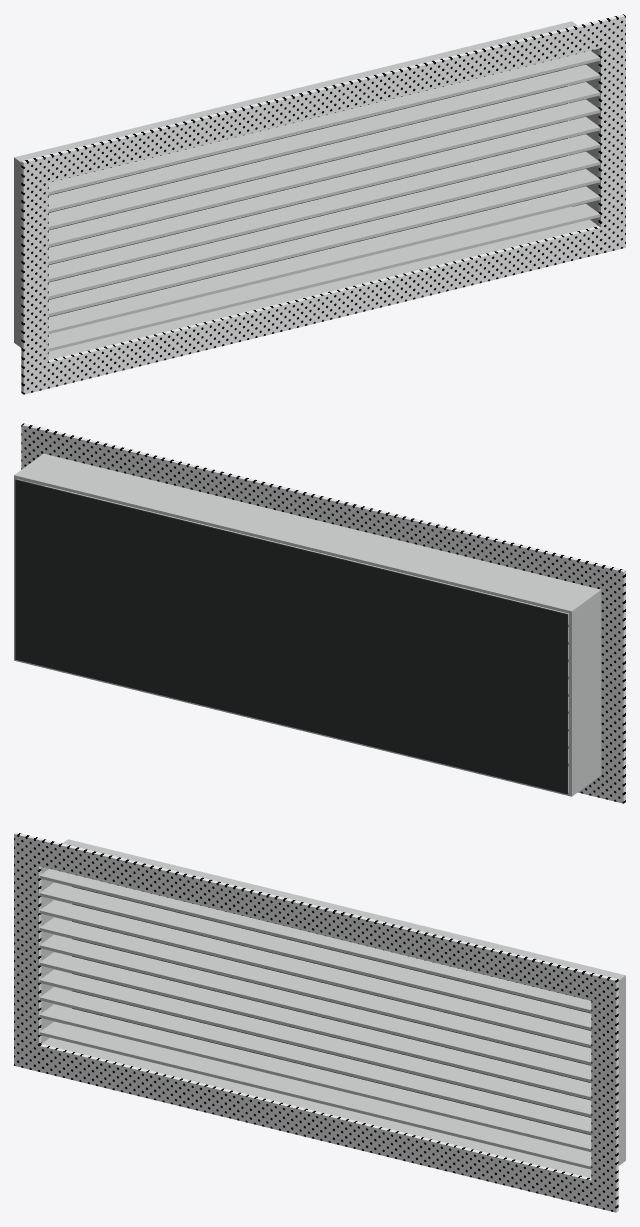
Rendered from ecoclima-ebls-400x125.glb.
The picture shows the model from 3 angles, top to bottom: view 1: azimuth 30°, elevation 25°; view 2: azimuth 150°, elevation 25°; view 3: azimuth 330°, elevation 25°; orthographic projection.
Visible parts, largest first — view 1: Profile_cornice, Profile_cornice.001, Profile_barra, Profile_barra.002, Profile_barra.003, Profile_barra.004, Profile_barra.008, Profile_barra.005, Profile_barra.006, Profile_barra.007, Profile_barra.001, Profile_barra.009 (+7 smaller); view 2: Interno, Profile_ritorno, Profile_cornice, Profile_ritorno.002, Profile_cornice.002, Profile_ritorno.001, Profile_cornice.001, Profile_barra.008; view 3: Profile_cornice, Profile_cornice.001, Profile_barra, Profile_barra.002, Profile_barra.003, Profile_barra.004, Profile_barra.008, Profile_barra.005, Profile_barra.006, Profile_barra.007, Profile_barra.001, Profile_barra.009 (+7 smaller).
Part boxes in pixels (bbox=[...]): Profile_cornice: bbox=[21, 14, 625, 188]; Profile_cornice.001: bbox=[21, 222, 625, 394]; Profile_barra: bbox=[48, 203, 600, 351]; Profile_barra.002: bbox=[48, 169, 600, 316]; Profile_barra.003: bbox=[48, 151, 600, 299]; Profile_barra.004: bbox=[48, 134, 600, 281]; Profile_barra.008: bbox=[48, 64, 600, 212]; Profile_barra.005: bbox=[48, 116, 600, 264]; Profile_barra.006: bbox=[48, 99, 600, 247]; Profile_barra.007: bbox=[48, 82, 600, 229]; Profile_barra.001: bbox=[48, 186, 600, 333]; Profile_barra.009: bbox=[48, 50, 600, 194]; Interno: bbox=[15, 479, 568, 794]; Profile_ritorno: bbox=[14, 453, 601, 614]; Profile_cornice: bbox=[21, 423, 625, 597]; Profile_ritorno.002: bbox=[569, 593, 601, 793]; Profile_cornice.002: bbox=[601, 592, 625, 777]; Profile_ritorno.001: bbox=[14, 658, 601, 796]; Profile_cornice.001: bbox=[578, 772, 625, 803]; Profile_barra.008: bbox=[44, 485, 568, 627]; Profile_cornice: bbox=[14, 832, 618, 1006]; Profile_cornice.001: bbox=[14, 1040, 618, 1212]; Profile_barra: bbox=[39, 1021, 591, 1169]; Profile_barra.002: bbox=[39, 987, 591, 1134]; Profile_barra.003: bbox=[39, 969, 591, 1117]; Profile_barra.004: bbox=[39, 952, 591, 1099]; Profile_barra.008: bbox=[39, 882, 591, 1030]; Profile_barra.005: bbox=[39, 934, 591, 1082]; Profile_barra.006: bbox=[39, 917, 591, 1065]; Profile_barra.007: bbox=[39, 900, 591, 1047]; Profile_barra.001: bbox=[39, 1004, 591, 1151]; Profile_barra.009: bbox=[39, 868, 591, 1012].
Bounding box in the file's own units: 0.435 × 0.16 × 0.042.
Materials: 3 (1 with a texture image).
